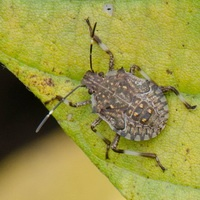insect: (35, 18, 196, 171)
